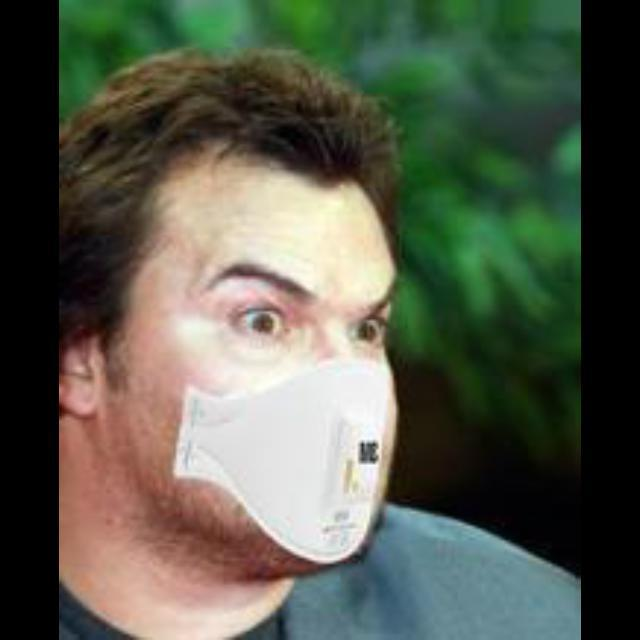suspicion: (63, 79, 424, 563)
